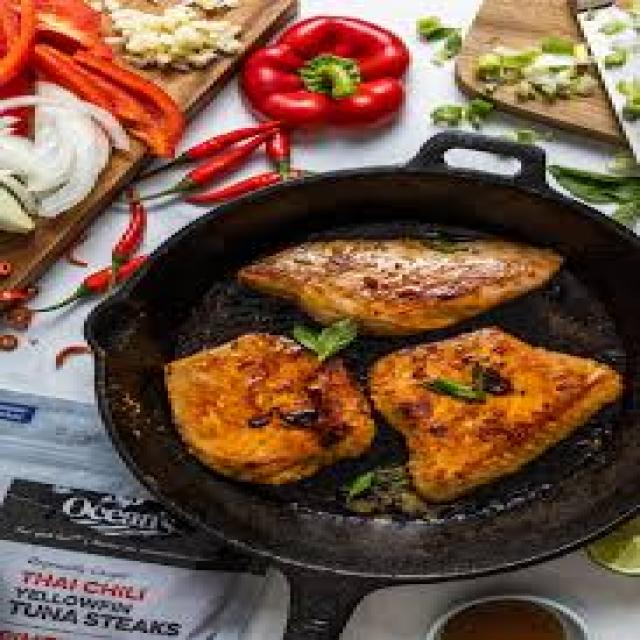Chilli: (113, 184, 149, 266)
Pepper: (237, 12, 416, 130)
